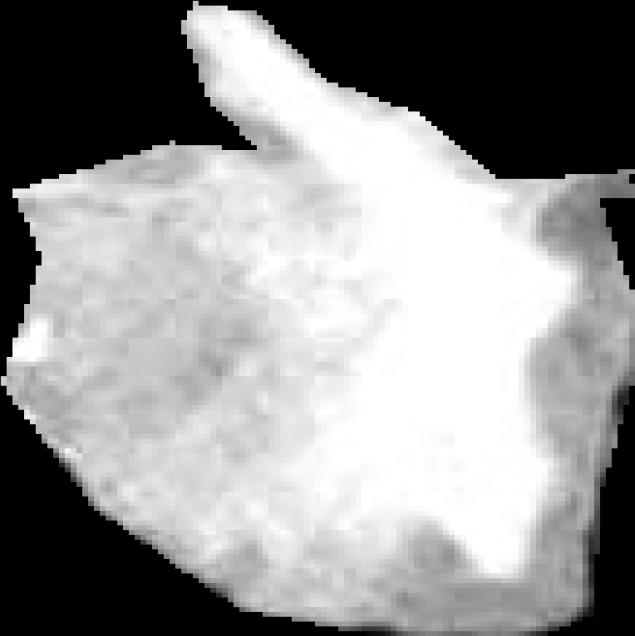tumor_moderate_chance: (1, 1, 635, 636)
